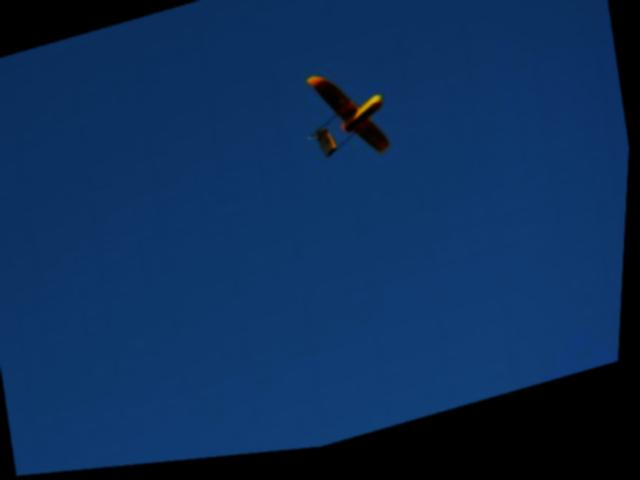iha: (290, 57, 407, 189)
